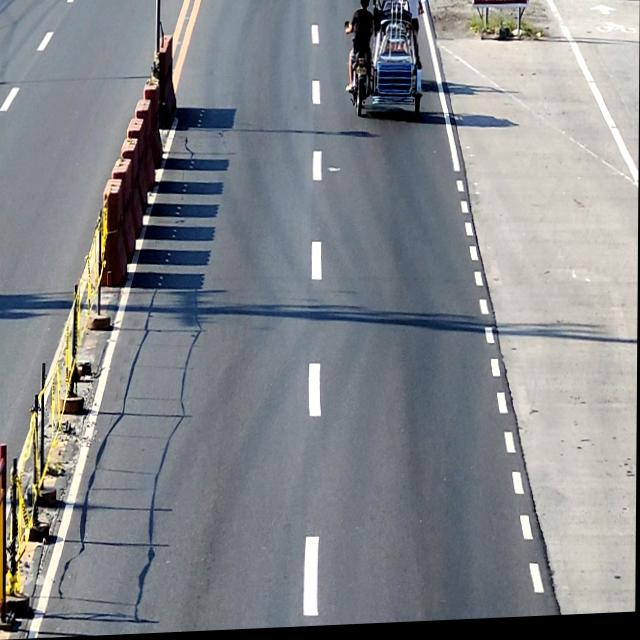License-Plate: (357, 71, 367, 79)
Tricycle: (345, 0, 422, 122)
